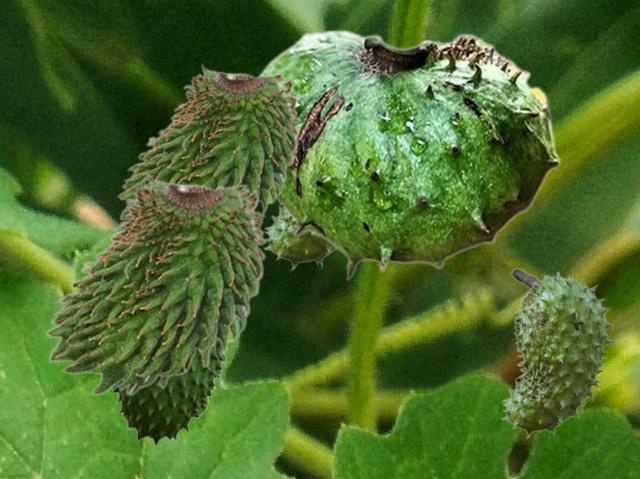guyabano: (256, 29, 560, 280), (44, 172, 267, 395), (116, 63, 300, 220), (500, 268, 617, 438), (111, 341, 229, 445), (262, 204, 334, 270)
